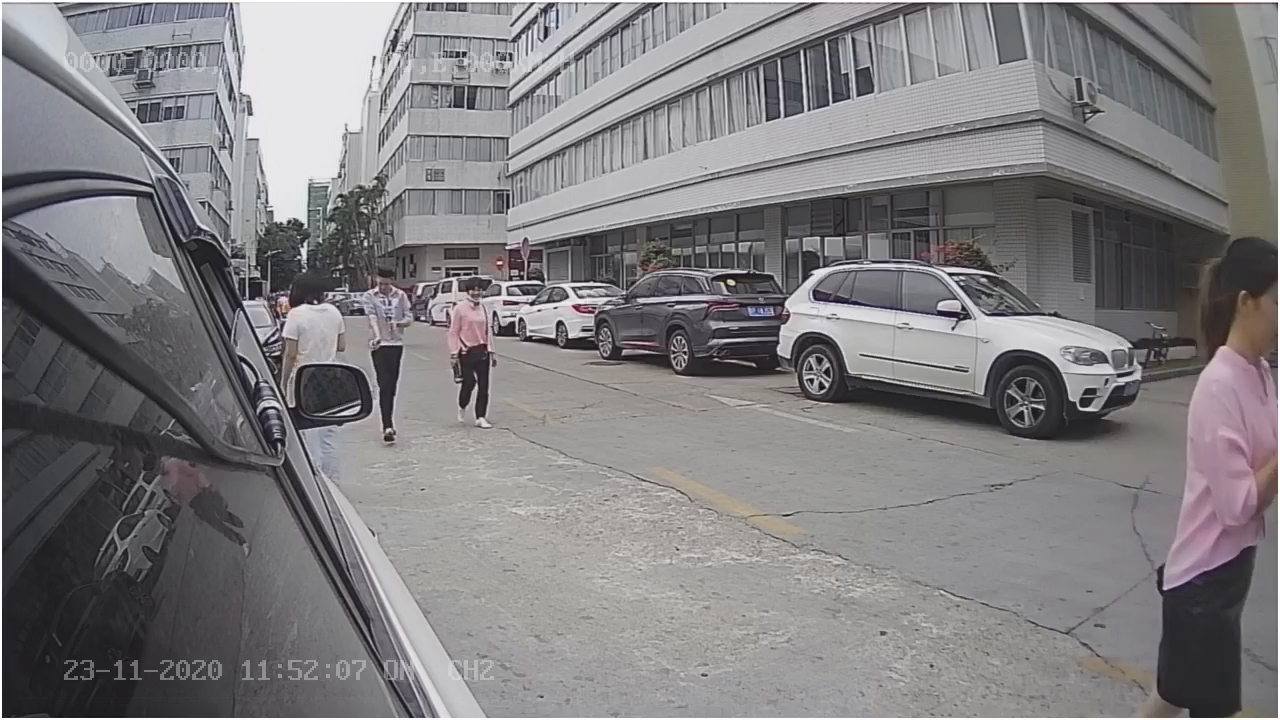person: (442, 275, 501, 437), (356, 260, 418, 353)
